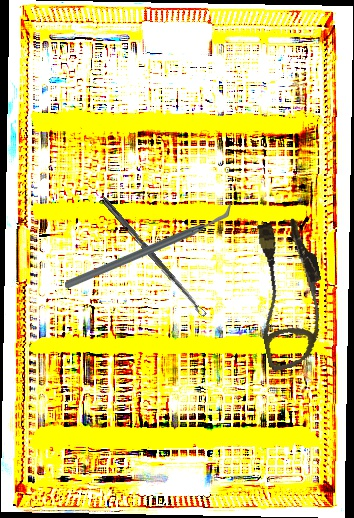Cannula: (240, 214, 338, 373)
Chopper: (65, 202, 233, 290)
Surgical Spoon: (100, 196, 207, 319)
